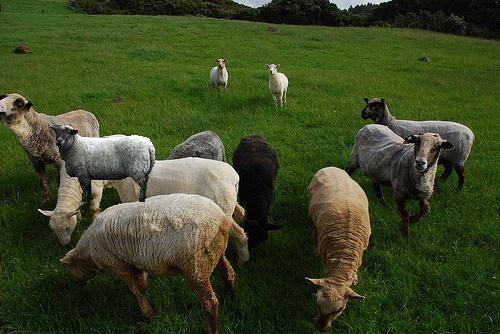tampered: (50, 125, 155, 202)
